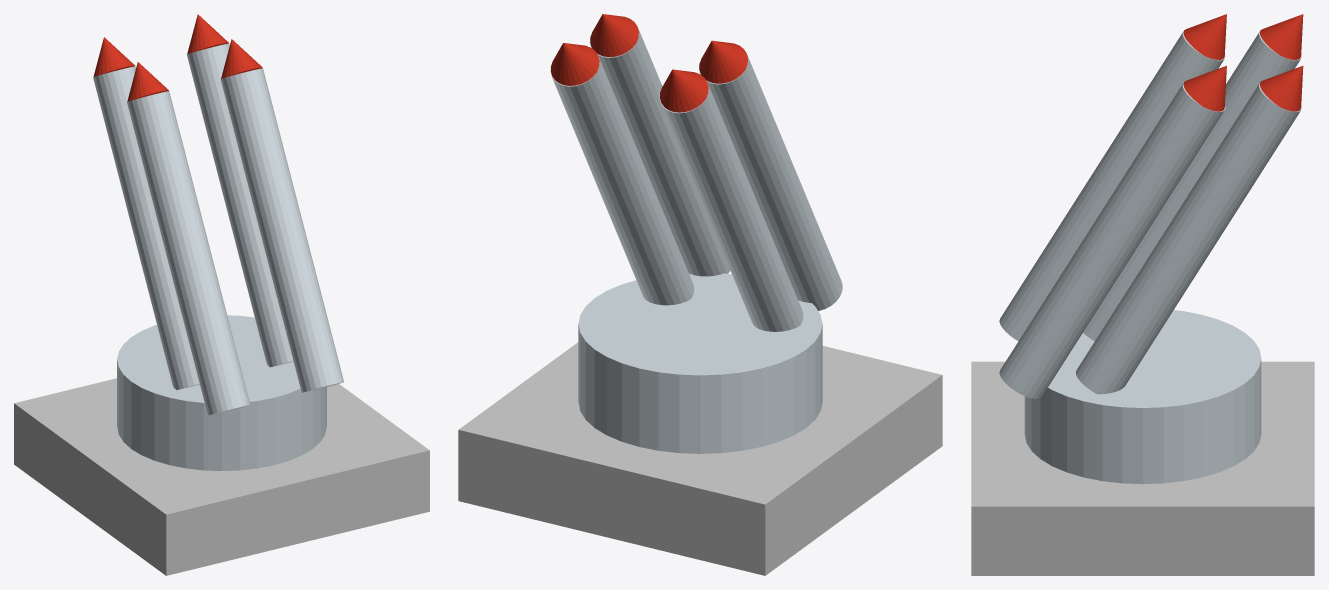
Rendered from sam_battery.obj.
The picture shows the model from 3 angles, left to right: view 1: azimuth 30°, elevation 25°; view 2: azimuth 150°, elevation 25°; view 3: azimuth 270°, elevation 25°; orthographic projection. The views are drawn at different scales.
Visible parts, largest first — view 1: sam_battery; view 2: sam_battery; view 3: sam_battery.
Boxes of the visible parts, x1,y1,x2,y2 form: sam_battery: [14, 14, 429, 575]; sam_battery: [458, 14, 942, 575]; sam_battery: [971, 14, 1314, 575].
Size of the model in its own units: 0.9 by 1.34 by 0.9.
